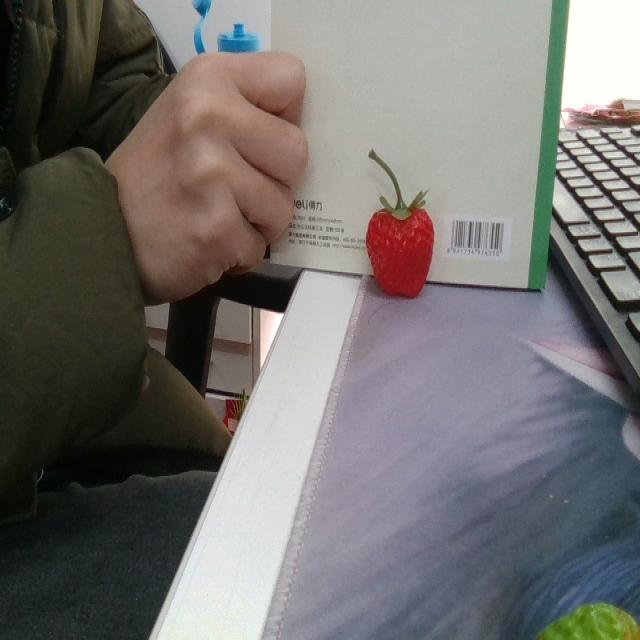mature: (364, 208, 434, 297), (534, 600, 639, 639)
